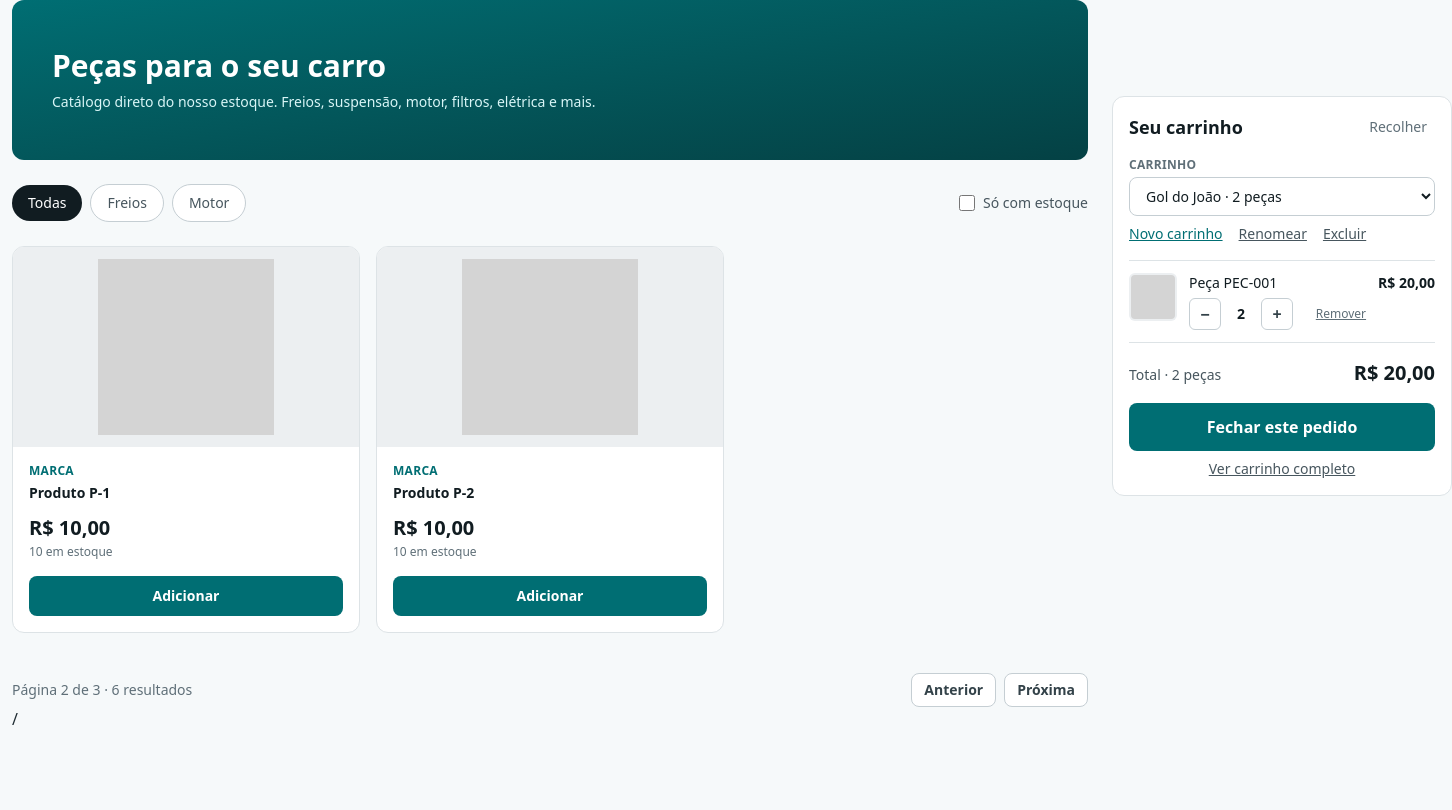
Test: vitrine com o carrinho ao lado › "Adicionar" coloca no carrinho ATIVO e diz o nome dele
Click the button "Adicionar" below "Produto P-1" at point(186, 596), box left=29, top=576, right=343, bottom=616
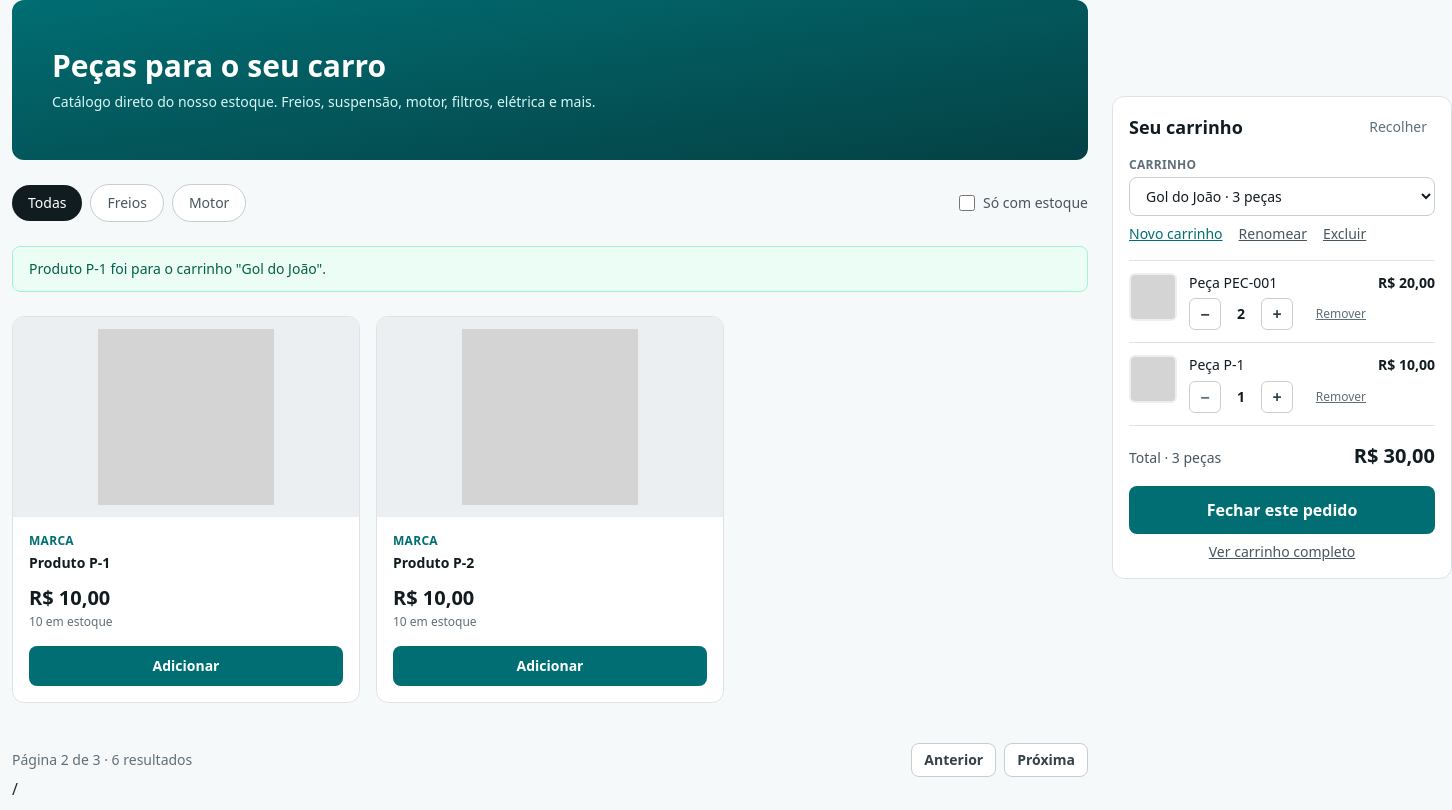
Check: the text "Produto P-1 foi para o carrinho \"Gol do João\"." is shown, box left=12, top=246, right=1088, bottom=292
